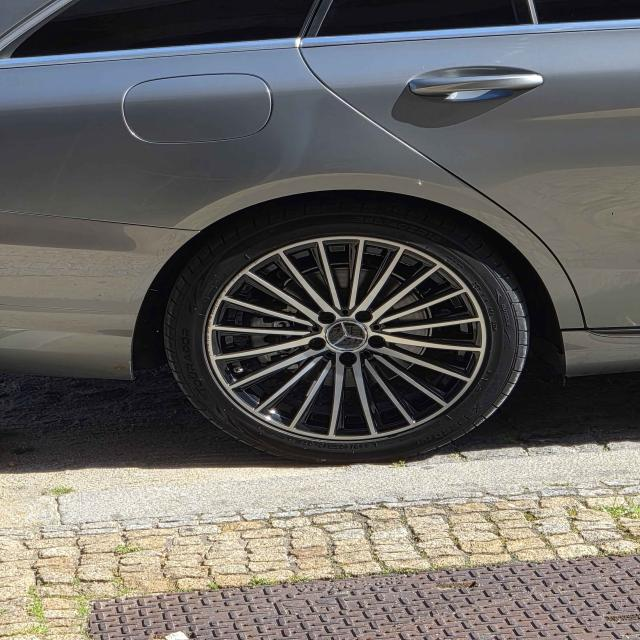jante: (204, 237, 487, 442)
parafuso: (365, 333, 390, 351), (336, 349, 358, 368), (315, 309, 338, 325), (354, 308, 374, 325), (306, 335, 327, 351)
roda: (161, 190, 529, 466)
